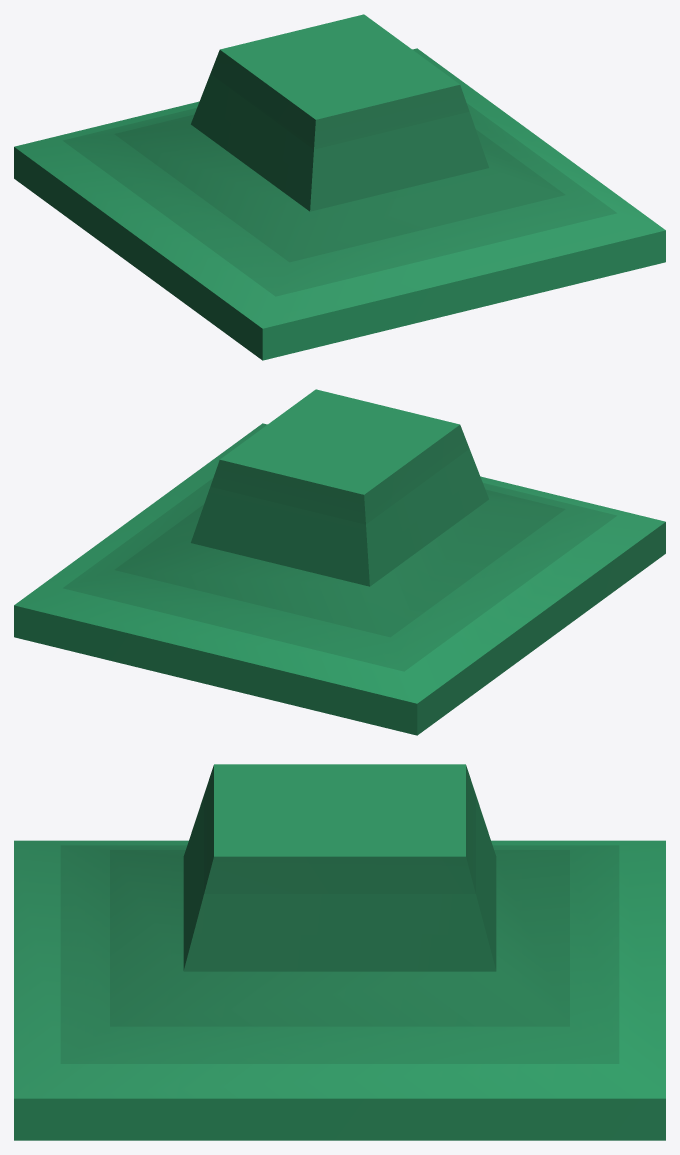
The model's file is SM_Hat.fbx.
3 renders of one model, top to bottom at view 1: azimuth 30°, elevation 25°; view 2: azimuth 150°, elevation 25°; view 3: azimuth 270°, elevation 25°, orthographic. The views are drawn at different scales.
Visible parts, largest first — view 1: Hat1; view 2: Hat1; view 3: Hat1.
Boxes of the visible parts, x1,y1,x2,y2 form: Hat1: (14, 14, 665, 360); Hat1: (14, 389, 665, 735); Hat1: (14, 764, 665, 1140).
Bounding box in the file's own units: 39.89 × 14.49 × 42.61.
Materials: 1 (1 with a texture image).
